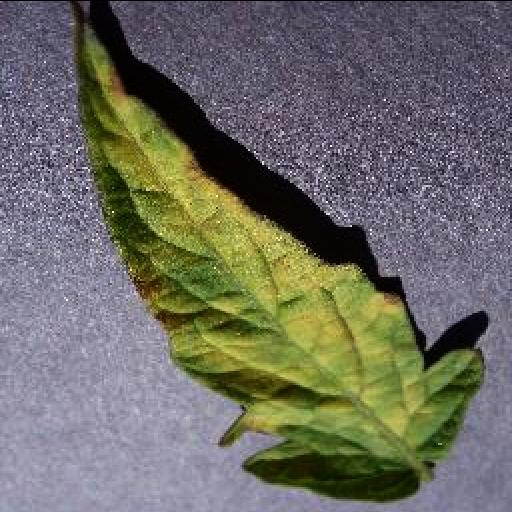disease_tomato: (76, 20, 484, 504)
